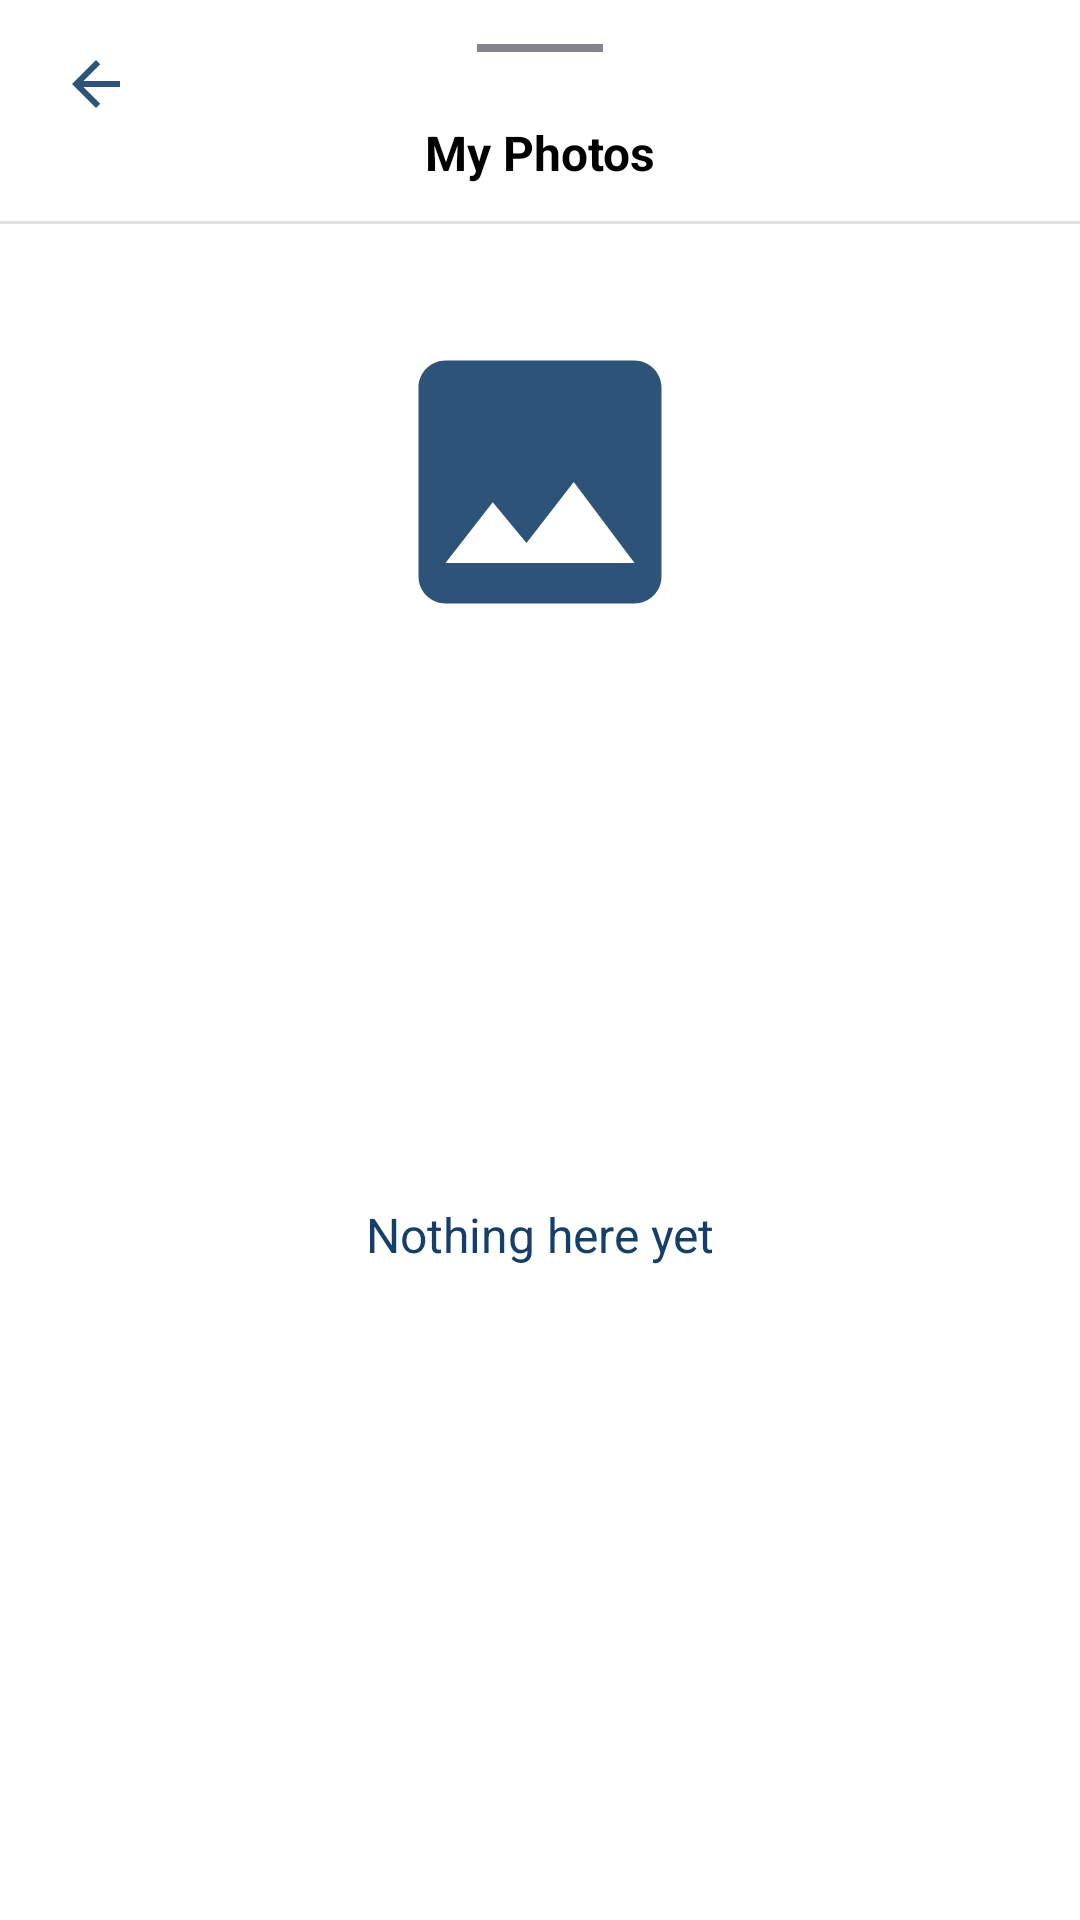

Named icons in this screenshot (1080 × 1920) and their centers, (x,y):
base settings photo: (540,482)
